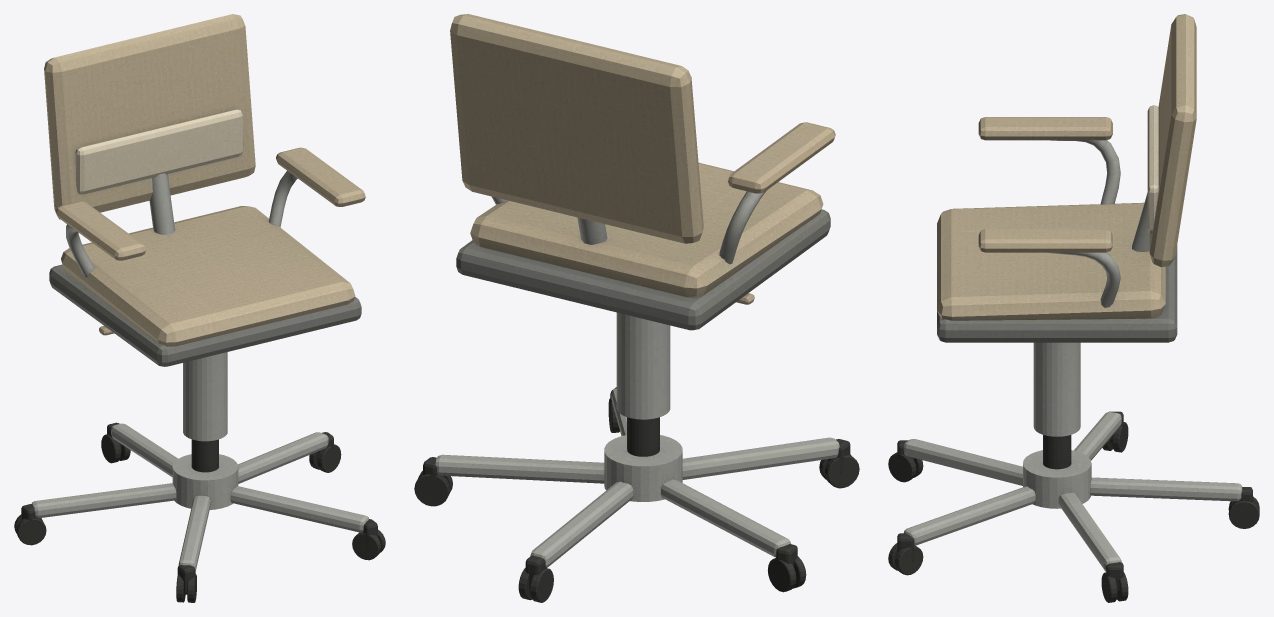
File: props-office-chair-b.glb
3 views of the same model, side by side, from view 1: azimuth 30°, elevation 25°; view 2: azimuth 150°, elevation 25°; view 3: azimuth 270°, elevation 25° (orthographic). The views are drawn at different scales.
Parts seen in each view (by area): view 1: case-baked; view 2: case-baked; view 3: case-baked.
Boxes of the visible parts, <box> form: case-baked: <box>14,14,385,602</box>; case-baked: <box>414,14,859,602</box>; case-baked: <box>888,14,1259,602</box>.
Bounding box in the file's own units: 0.6826 × 0.898 × 0.6492.
Materials: 1 (1 with a texture image).
